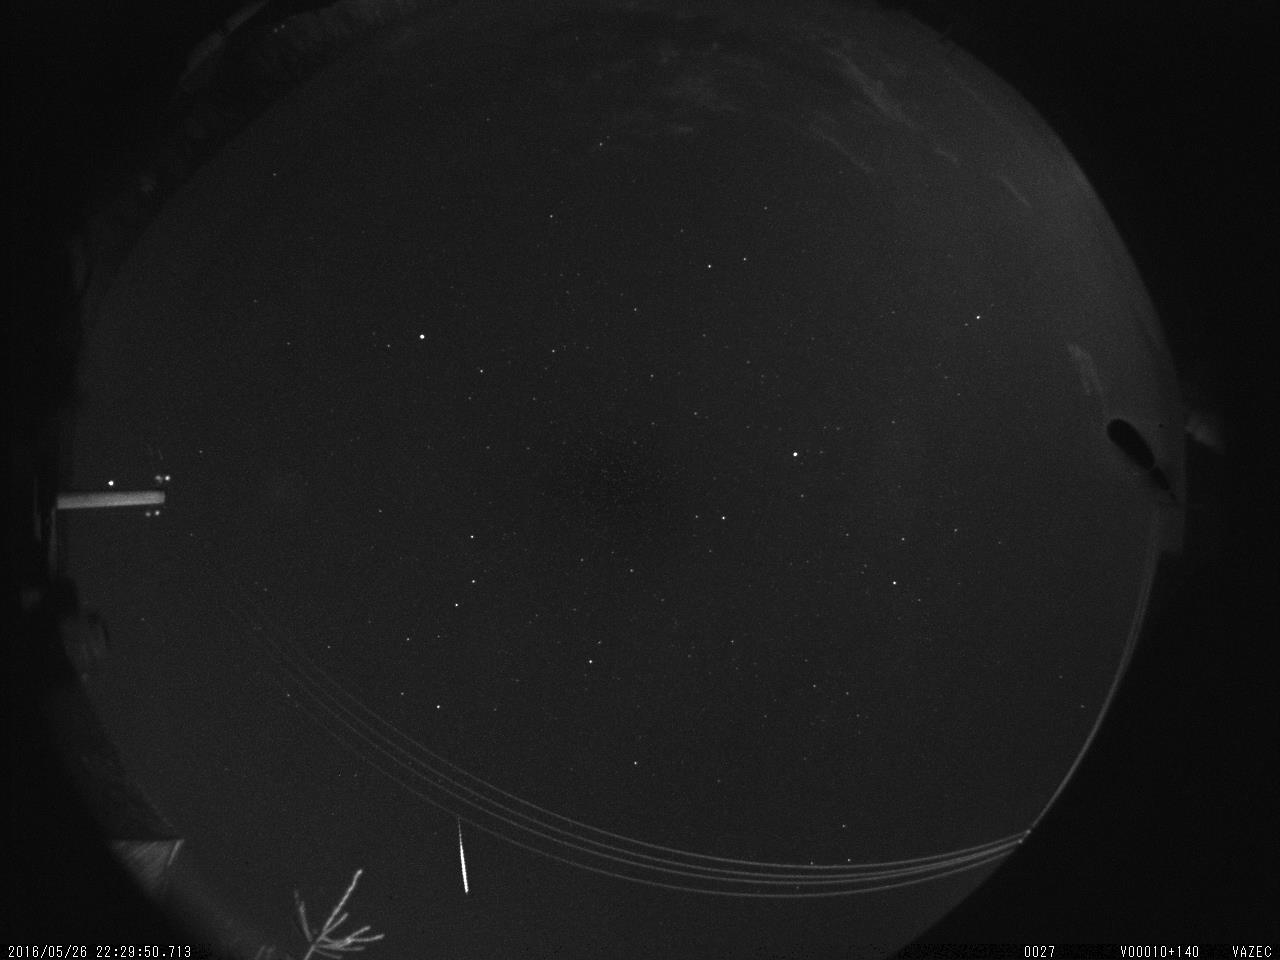meteor: (437, 808, 484, 906)
